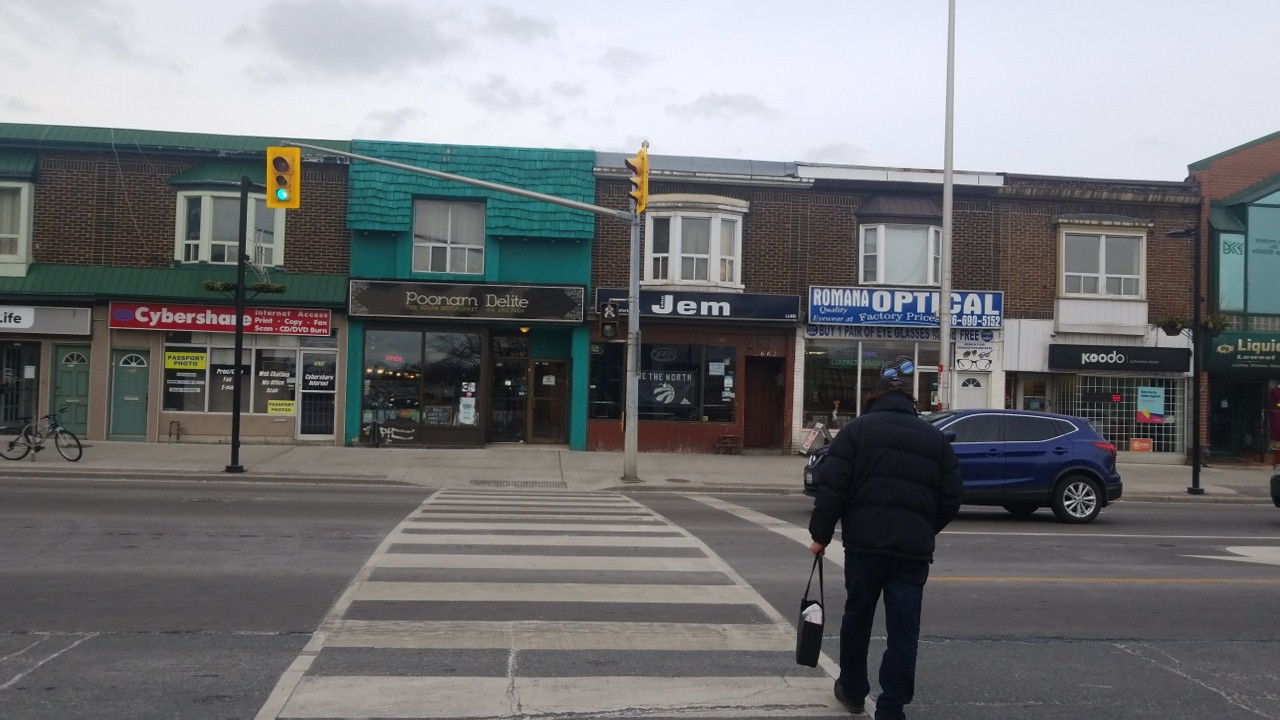light: (597, 298, 620, 343)
